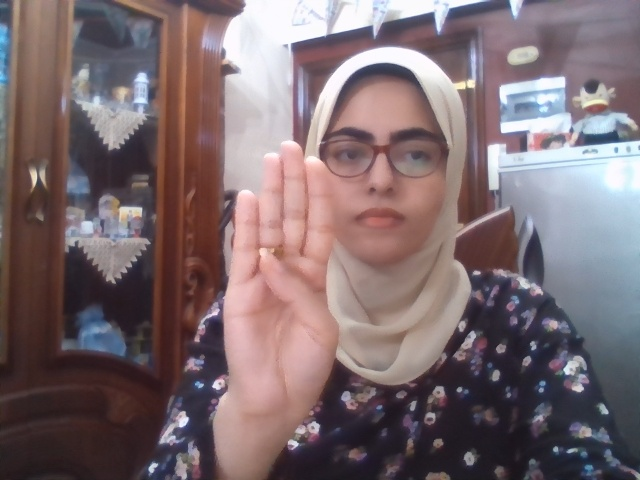B: (223, 139, 340, 425)
